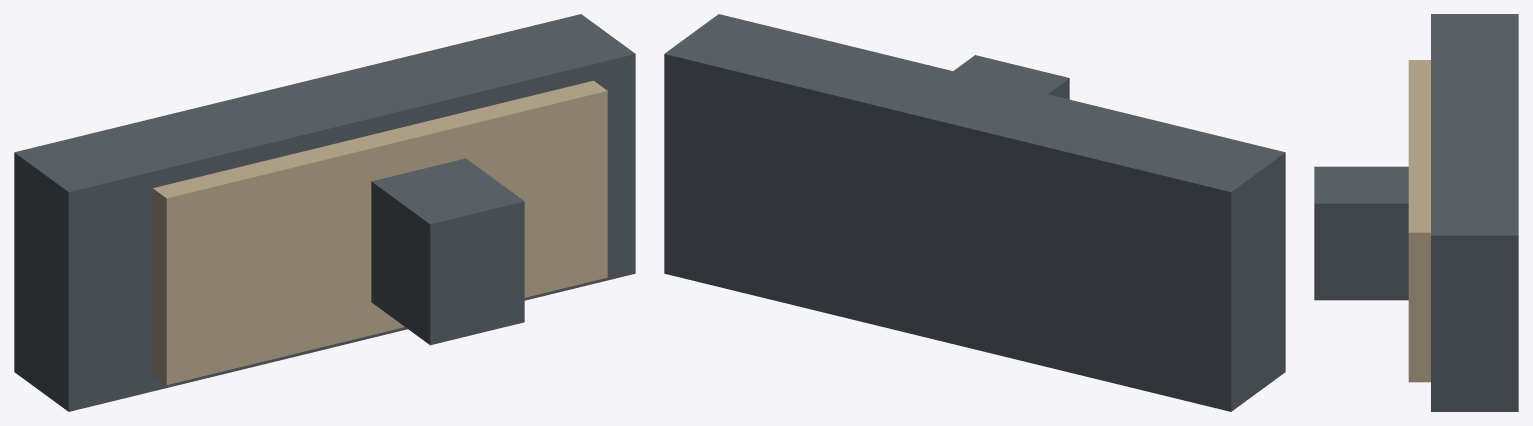
File: boat.glb
The picture shows the model from 3 angles, left to right: view 1: azimuth 30°, elevation 25°; view 2: azimuth 150°, elevation 25°; view 3: azimuth 270°, elevation 25°; orthographic projection. The views are drawn at different scales.
Parts seen in each view (by area): view 1: g0_hull, g1_deck, g2_console; view 2: g0_hull, g2_console; view 3: g0_hull, g2_console, g1_deck.
Boxes of the visible parts, x1,y1,x2,y2 form: g0_hull: (14, 14, 635, 411); g1_deck: (152, 80, 607, 384); g2_console: (371, 158, 524, 345); g0_hull: (664, 14, 1285, 411); g2_console: (953, 55, 1069, 99); g0_hull: (1431, 14, 1518, 411); g2_console: (1314, 166, 1408, 300); g1_deck: (1408, 60, 1430, 382).
Bounding box in the file's own units: 2.7 × 1 × 1.05.
